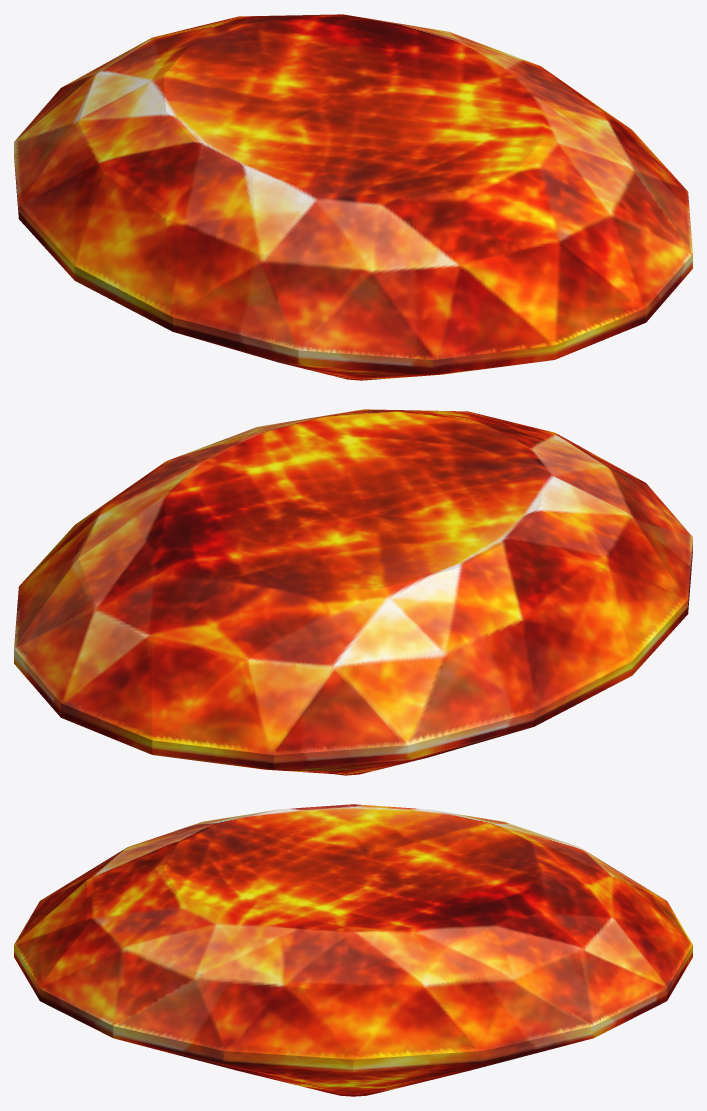
File: item_maw_craft_gem02.glb
3 views of the same model, one above another, from view 1: azimuth 30°, elevation 25°; view 2: azimuth 150°, elevation 25°; view 3: azimuth 270°, elevation 25° (orthographic). The views are drawn at different scales.
Visible parts, largest first — view 1: maw_gem02; view 2: maw_gem02; view 3: maw_gem02.
Boxes of the visible parts, x1,y1,x2,y2 form: maw_gem02: [14, 14, 692, 380]; maw_gem02: [14, 409, 692, 775]; maw_gem02: [14, 804, 692, 1096].
Size of the model in its own units: 2 by 0.88 by 2.5.
1 material, 1 textured.
